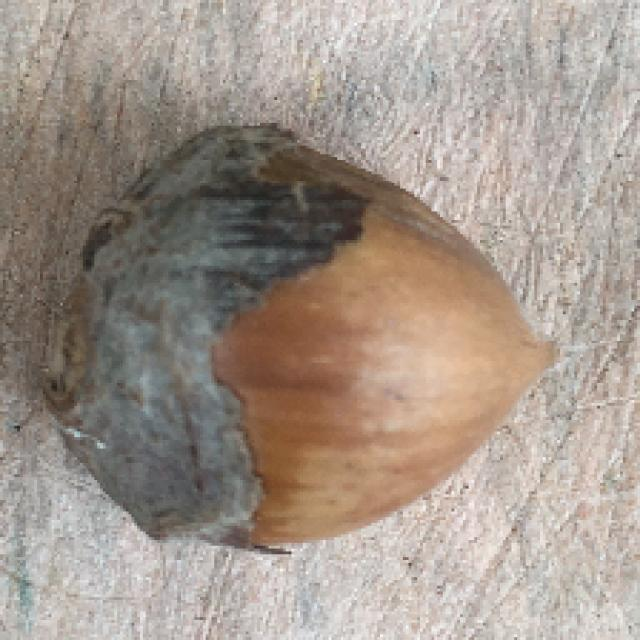damagedHazelnut: (33, 122, 561, 562)
